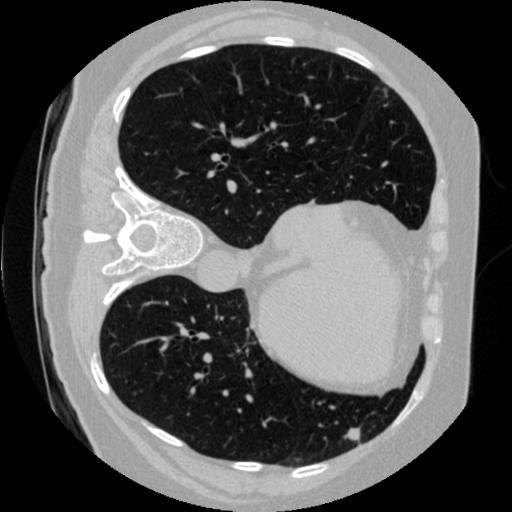nodule: (345, 423, 366, 444)
